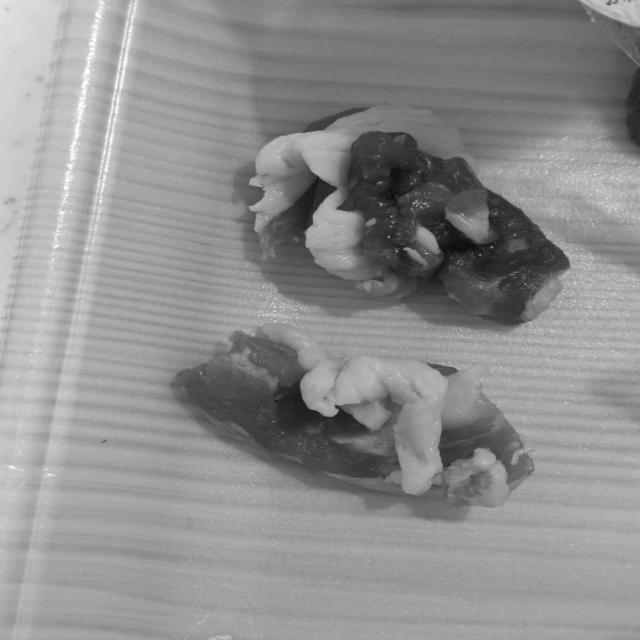NG raw pork,: (239, 89, 594, 340), (157, 315, 545, 520), (616, 53, 640, 165)
